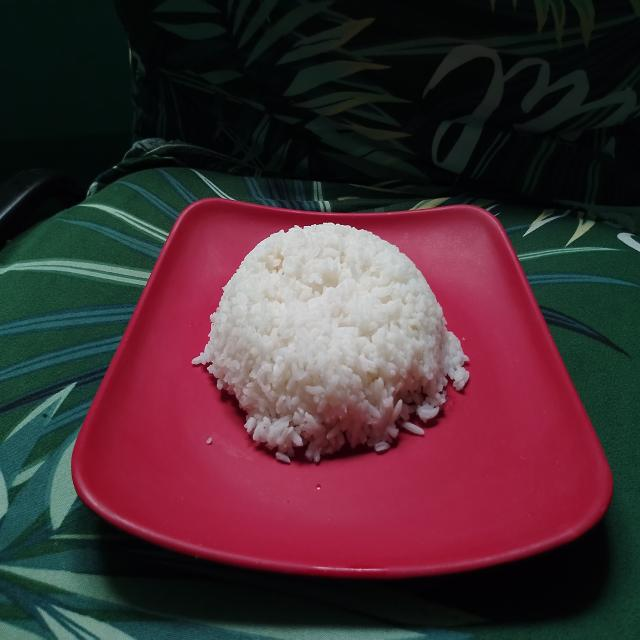Chicken -Chicken Inasal-: (204, 214, 462, 453)
